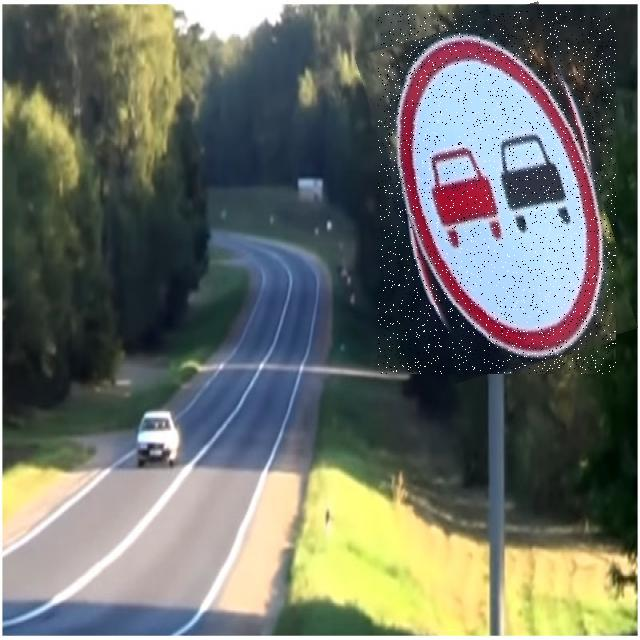no overtaking: (378, 11, 616, 374)
